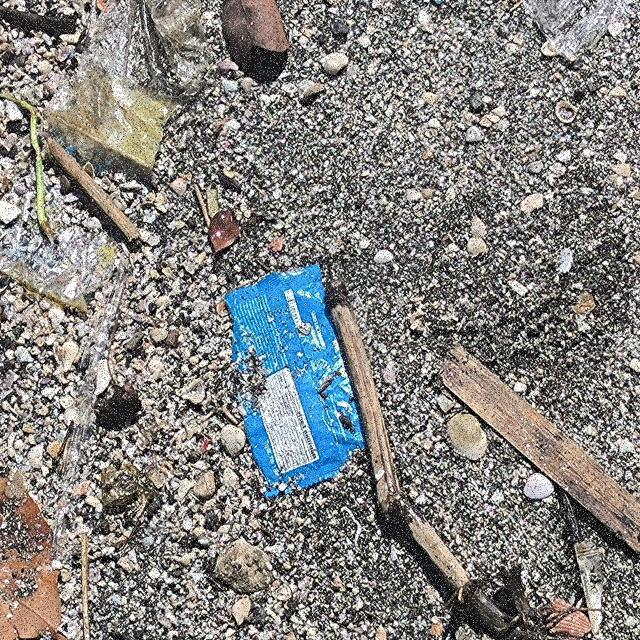plastic_waste: (219, 264, 367, 500)
